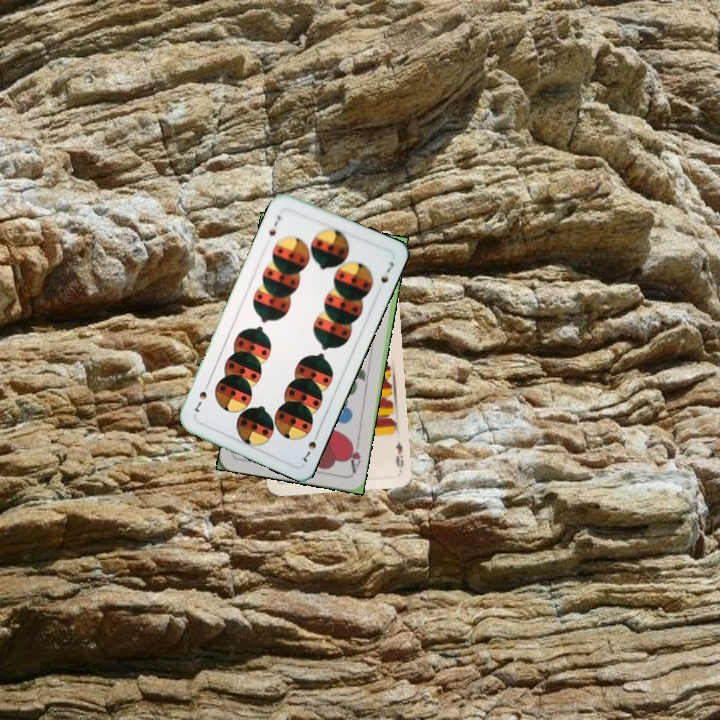E9: (391, 437, 406, 473)
HA: (344, 436, 363, 476)
S7: (299, 427, 322, 465), (264, 211, 283, 238)
